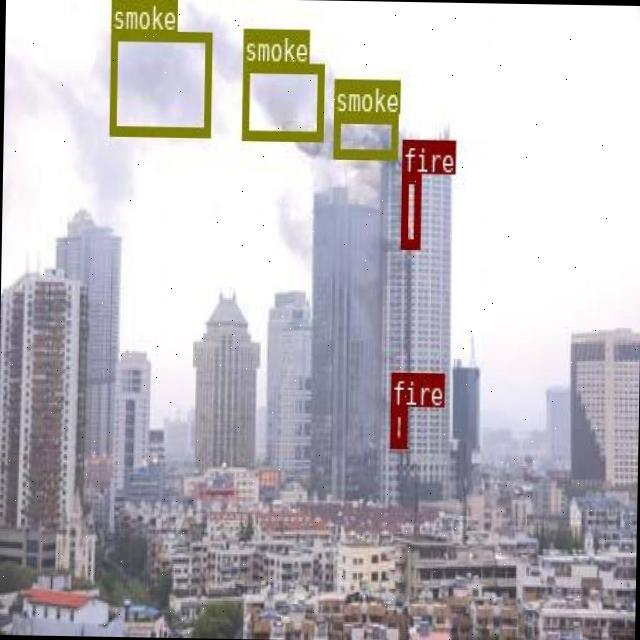fire: (399, 172, 418, 246), (388, 404, 406, 446)
smoke: (107, 29, 210, 135), (240, 62, 322, 138), (332, 111, 397, 158)
